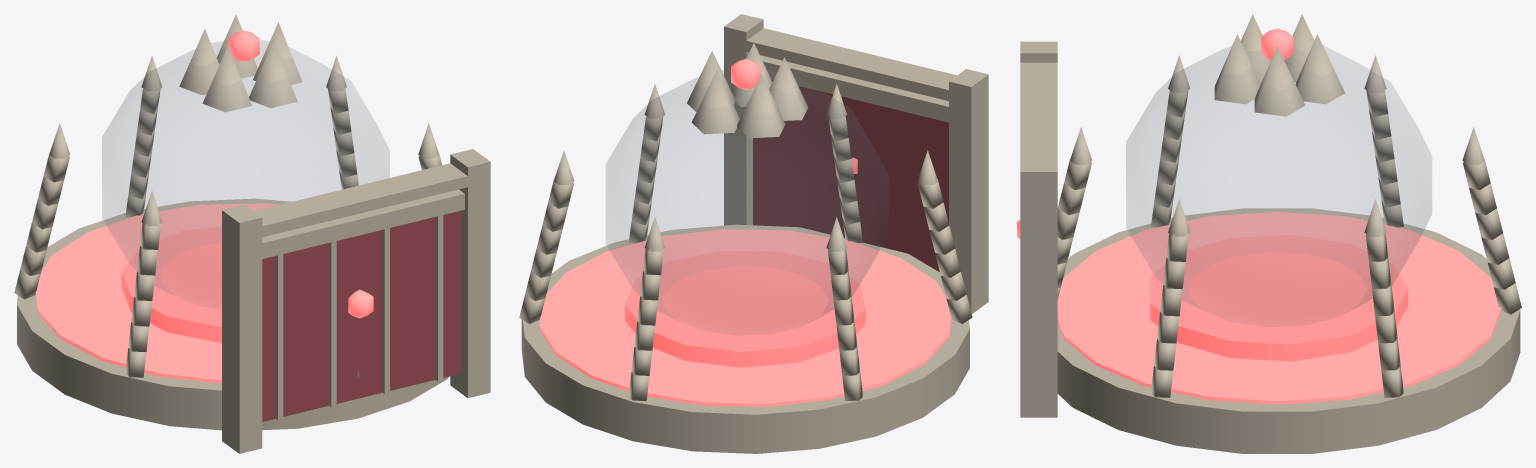
The model's file is MonsterHub_EMBER_Hatchery.glb.
3 views of the same model, side by side, from view 1: azimuth 30°, elevation 25°; view 2: azimuth 150°, elevation 25°; view 3: azimuth 270°, elevation 25° (orthographic). The views are drawn at different scales.
Parts seen in each view (by area): view 1: MonsterHub_EMBER_Hatchery, MonsterHub_EMBER_Hatchery_Gate; view 2: MonsterHub_EMBER_Hatchery, MonsterHub_EMBER_Hatchery_Gate; view 3: MonsterHub_EMBER_Hatchery.
Part boxes in pixels (x1,y1,x2,y2): MonsterHub_EMBER_Hatchery: [14, 14, 490, 453]; MonsterHub_EMBER_Hatchery_Gate: [262, 189, 464, 421]; MonsterHub_EMBER_Hatchery: [519, 14, 988, 453]; MonsterHub_EMBER_Hatchery_Gate: [753, 55, 948, 272]; MonsterHub_EMBER_Hatchery: [1020, 14, 1521, 453].
Size of the model in its own units: 5.15 by 3.82 by 5.4.
